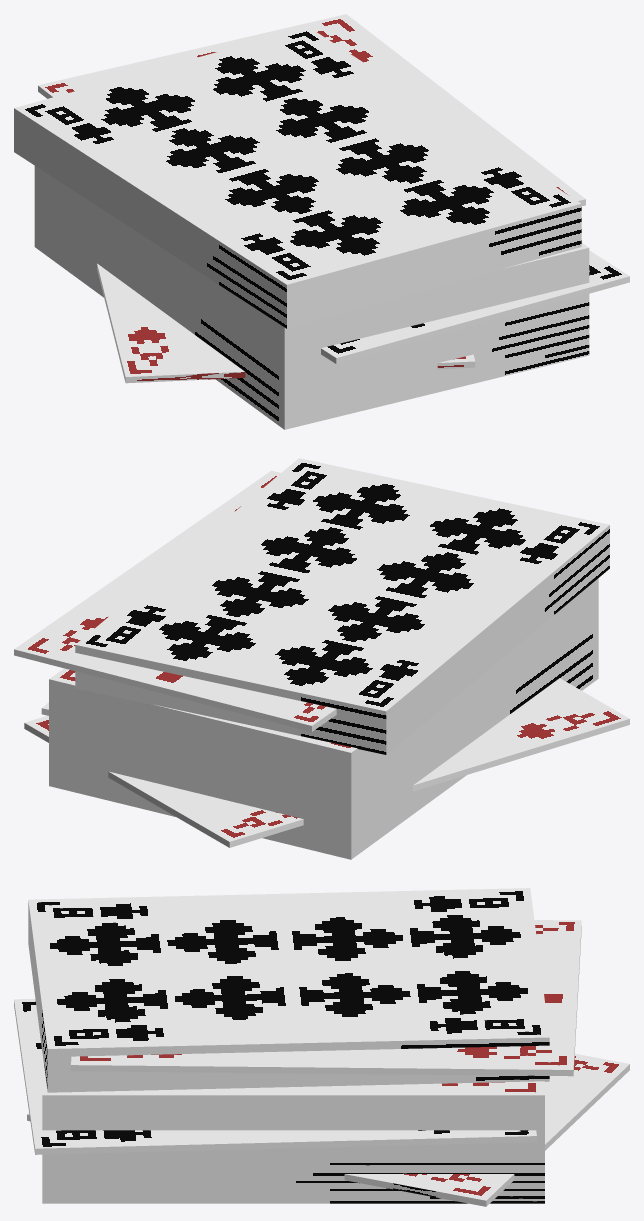
The model's file is deckOfCards.gltf.
3 renders of one model, top to bottom at view 1: azimuth 30°, elevation 25°; view 2: azimuth 150°, elevation 25°; view 3: azimuth 270°, elevation 25°, orthographic.
Visible parts, largest first — view 1: Cube.003, Cube, Cube.004, Cube.001, Cube.002; view 2: Cube.003, Cube, Cube.001, Cube.004; view 3: Cube.003, Cube, Cube.004, Cube.002, Cube.001.
Boxes of the visible parts, box(x1,y1,x2,y2) form: Cube.003: box(14, 27, 581, 328); Cube: box(34, 166, 589, 429); Cube.004: box(38, 14, 585, 206); Cube.001: box(97, 263, 475, 383); Cube.002: box(321, 250, 629, 364); Cube.003: box(75, 458, 609, 754); Cube: box(49, 578, 598, 859); Cube.001: box(24, 678, 629, 847); Cube.004: box(14, 470, 336, 731); Cube.003: box(28, 888, 549, 1092); Cube: box(42, 1053, 544, 1203); Cube.004: box(71, 920, 581, 1076); Cube.002: box(14, 998, 536, 1154); Cube.001: box(27, 1053, 629, 1206).
Bounding box in the file's own units: 0.0854 × 0.0272 × 0.0997.
Materials: 1 (1 with a texture image).
